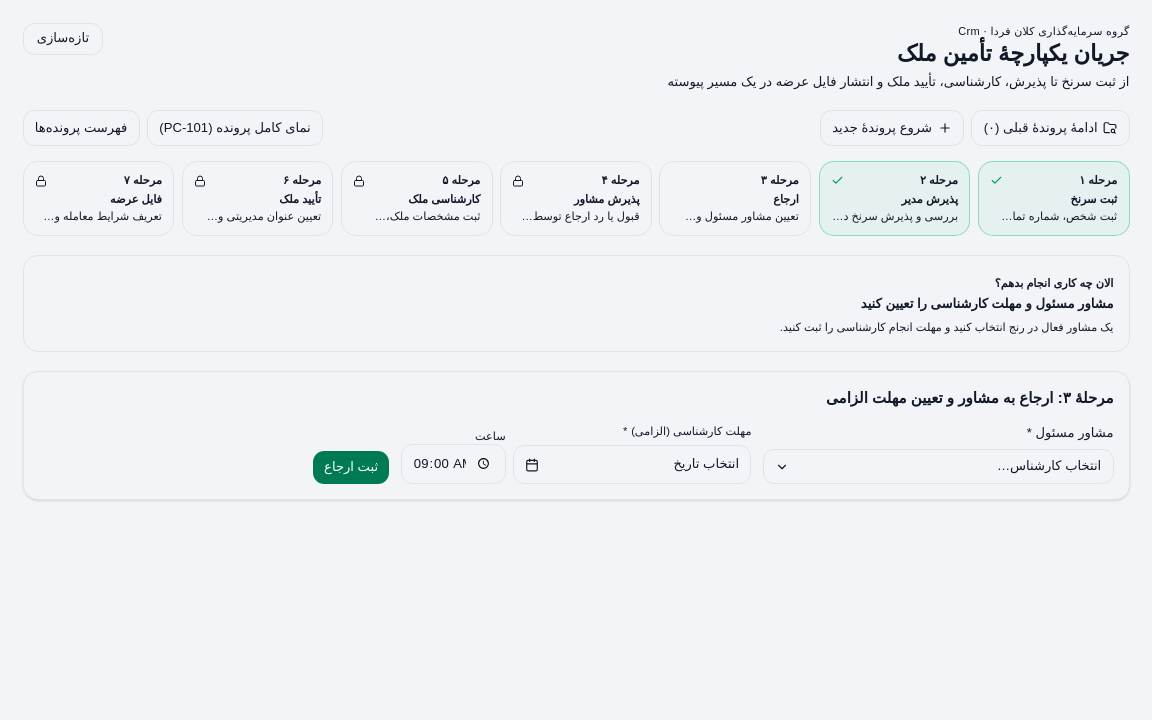
Test case: property registration assignment step › explains an empty candidate list instead of rendering an empty select
This screenshot has width=1152, height=720.
What coordinates should you click on to do the following:
click the button "انتخاب کارشناس…"
I would click on:
 (1049, 466)
Its box is [763,449,1114,484].
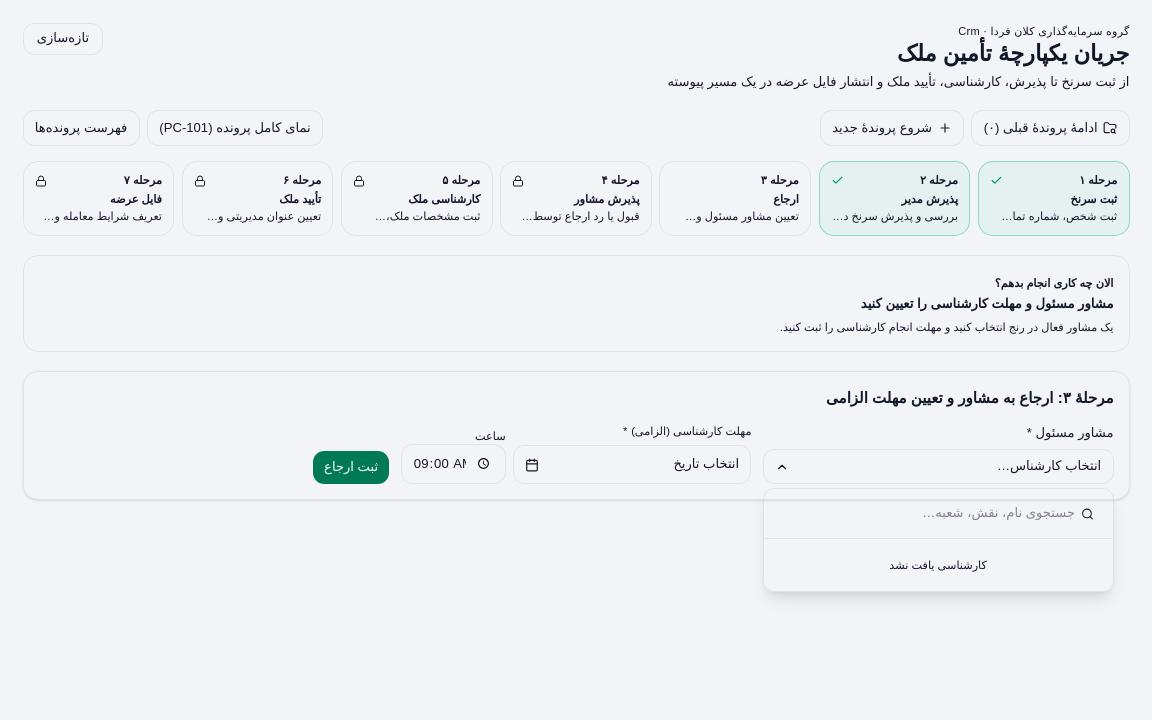
Now the text "کارشناسی یافت نشد" is shown, box [889,559,987,571]
